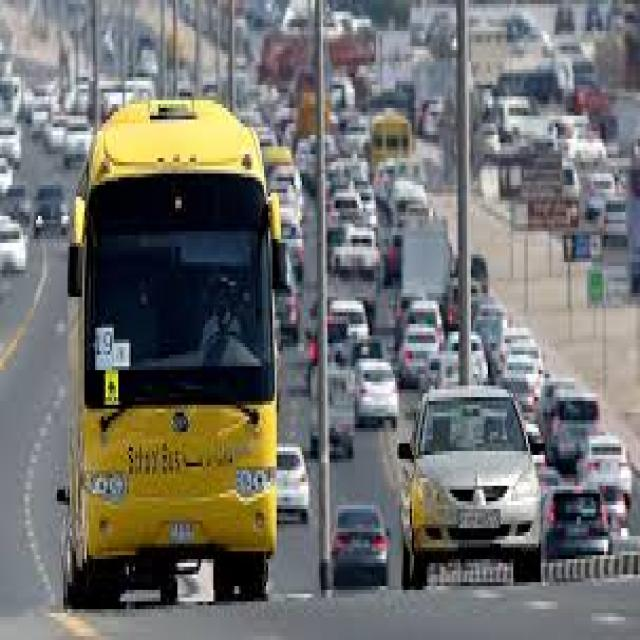bus: (63, 100, 279, 605)
car: (403, 386, 539, 586), (334, 509, 387, 586), (545, 493, 606, 559), (577, 440, 629, 497), (355, 359, 397, 428), (277, 447, 306, 520), (36, 185, 68, 235), (0, 220, 25, 274)
